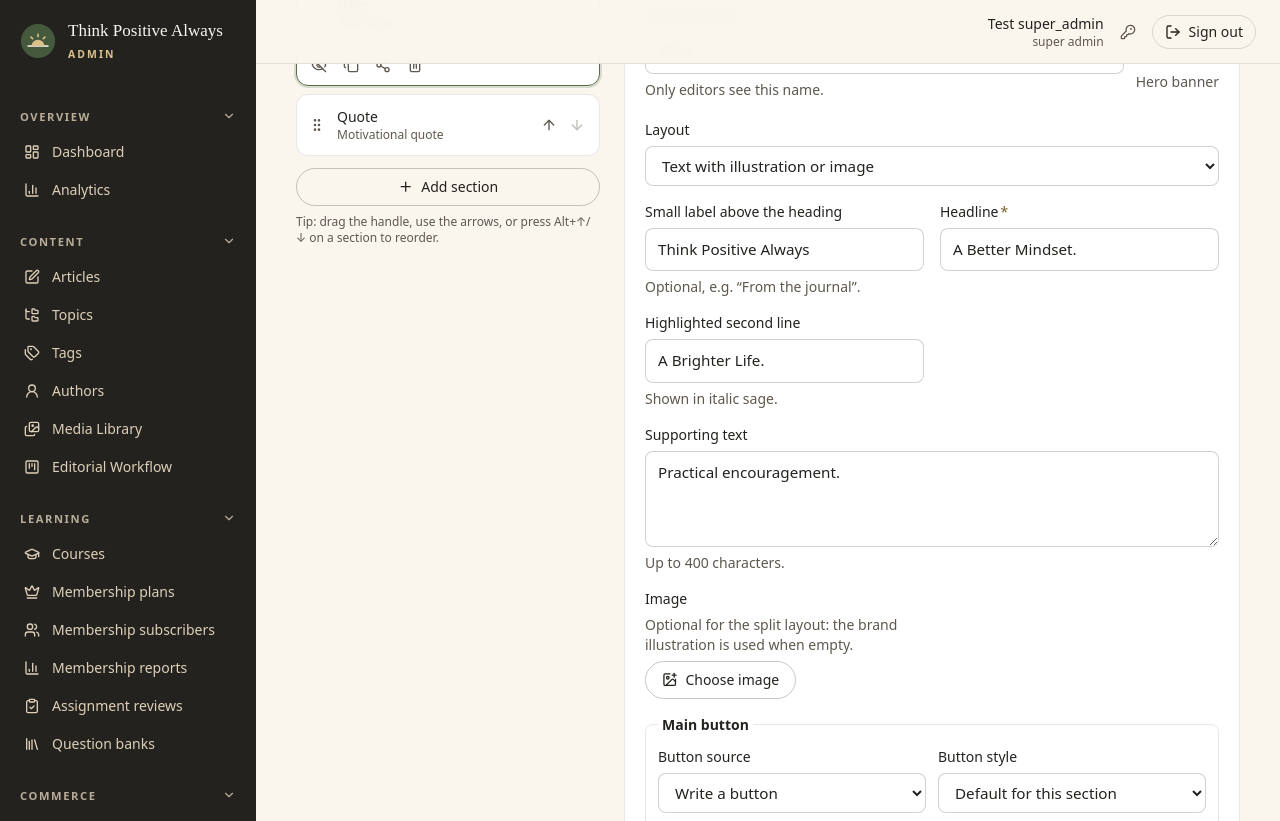
Test: homepage builder › explains edit conflicts instead of overwriting newer work
The width and height of the screenshot is (1280, 821).
(page scrolled)
Step 1. Type " More." into the text box labelled "Supporting text" → (932, 499), box [645, 451, 1219, 547]
(page scrolled)
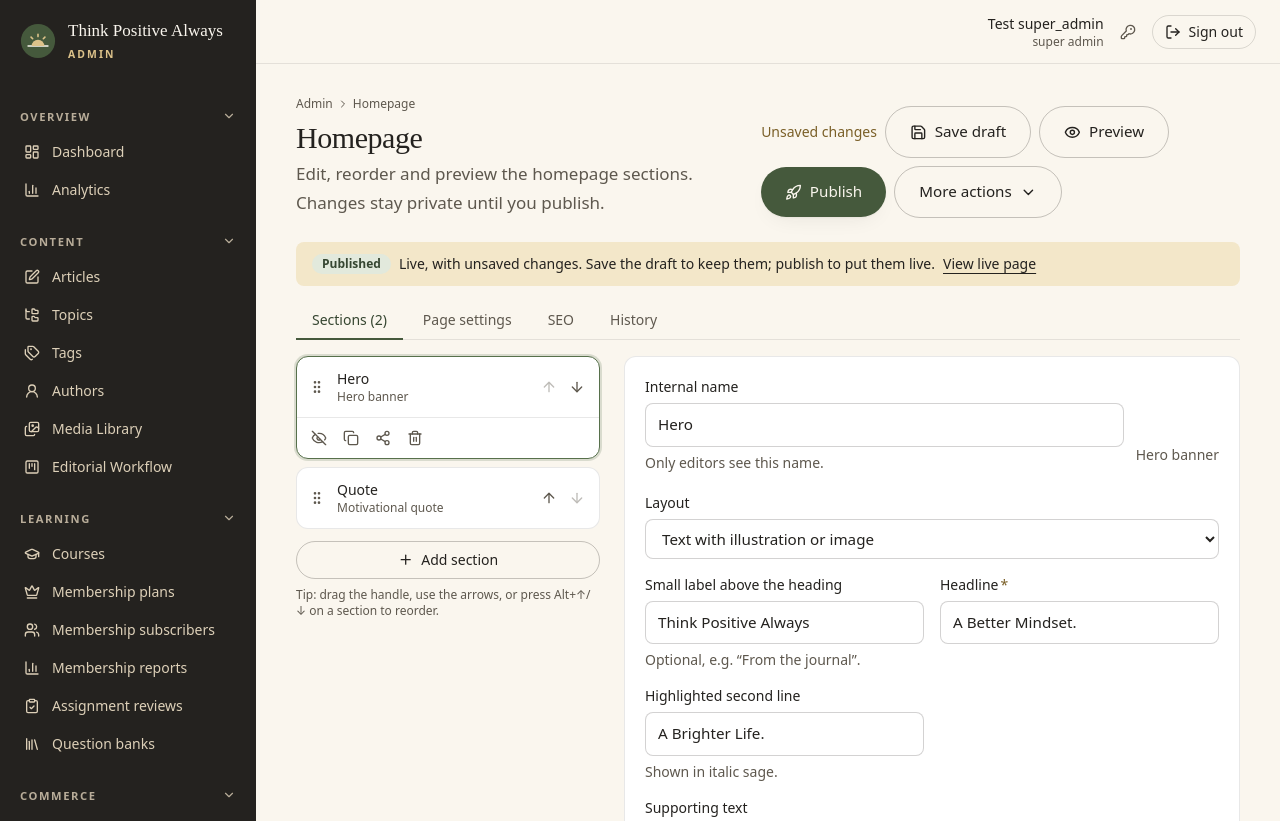
Step 2. Click the button "Save draft" → (958, 132), box [885, 106, 1031, 158]
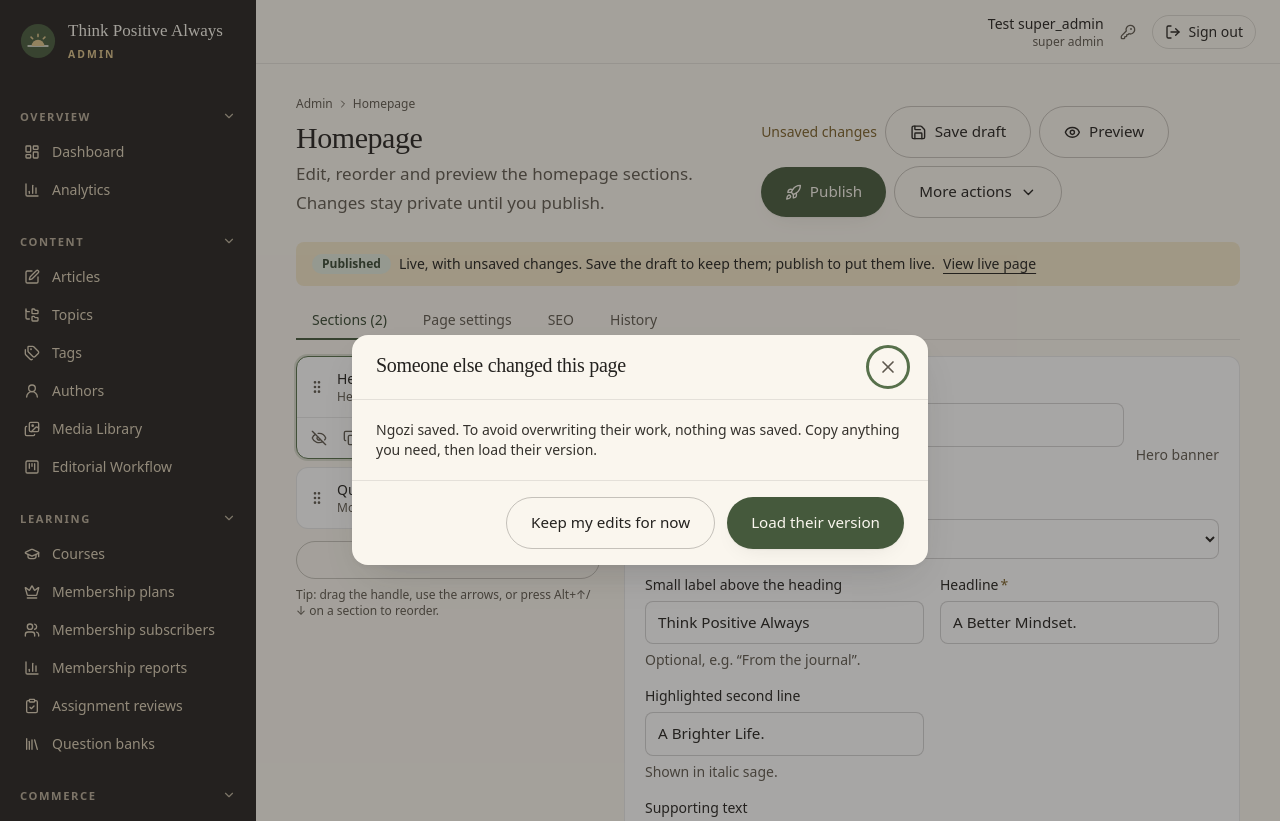
Expected: the text "Ngozi saved" is shown, [376, 420, 456, 439]
